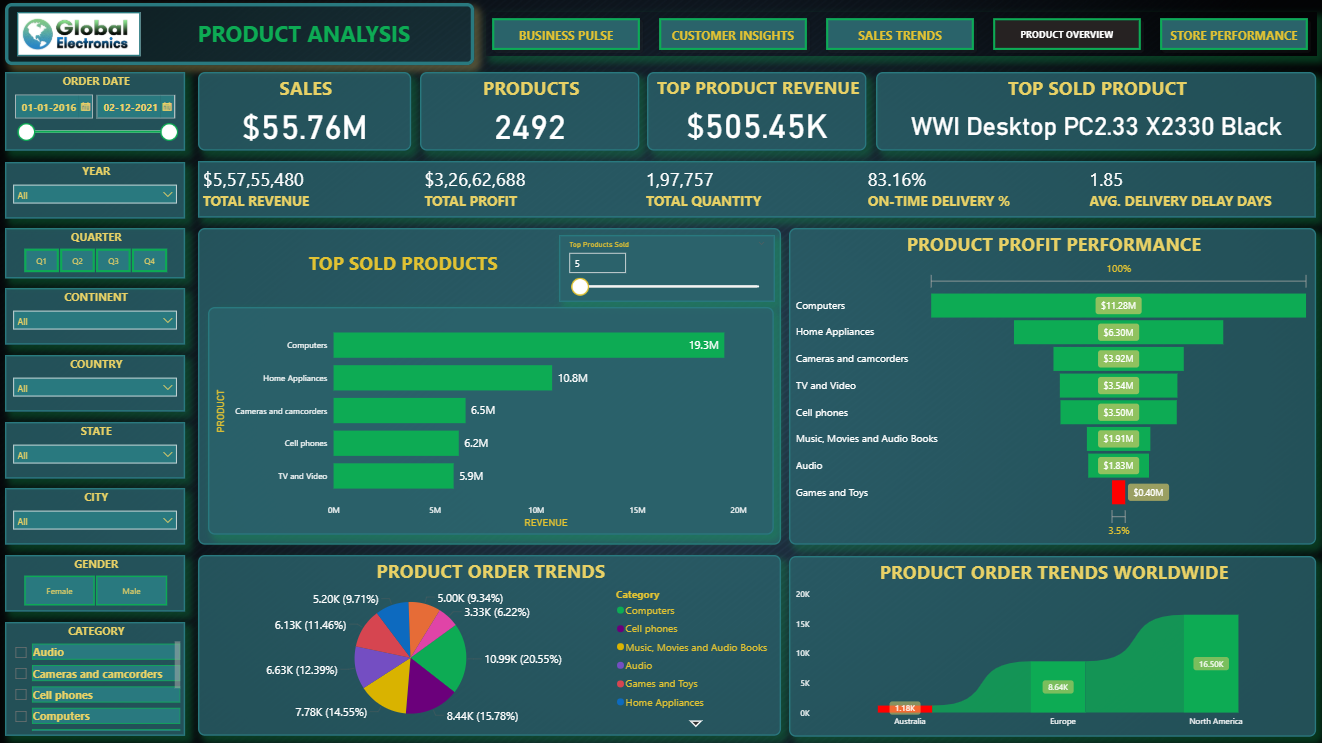

This screenshot's page, from the dashboard's own definition file:
{"tool":"powerbi","page":{"name":"PRODUCT OVERVIEW","canvas":[1920,1080],"ordinal":3},"visuals":[{"type":"shape","title":"title text box","box":[10.7,6.7,679.7,90],"z":0},{"type":"textbox","box":[205.5,22.8,475.5,59.1],"z":1000},{"type":"image","title":"Global electronics icon","box":[26.9,20.1,178.7,64.5],"z":2000},{"type":"slicer","title":"COUNTRY","fields":{"Values":["customers.Country"]},"box":[10.7,517,260.6,81.9],"z":3000},{"type":"slicer","title":"CONTINENT","fields":{"Values":["customers.Continent"]},"box":[10.7,420,260.6,81.9],"z":4000},{"type":"slicer","title":"STATE","fields":{"Values":["customers.State"]},"box":[10.7,614,260.6,81.9],"z":5000},{"type":"slicer","title":"CITY","fields":{"Values":["customers.City"]},"box":[10.7,710,260.6,81.9],"z":6000},{"type":"slicer","title":"GENDER","fields":{"Values":["customers.Gender"]},"box":[10.7,807,260.6,81.9],"z":7000},{"type":"slicer","title":"ORDER DATE","fields":{"Values":["Sales.Order Date"]},"box":[10.7,107.5,260.6,114.2],"z":8000},{"type":"slicer","title":"CATEGORY","fields":{"Values":["Products.Category"]},"box":[10.7,904,260.6,165.2],"z":9000},{"type":"slicer","title":"QUARTER","fields":{"Values":["Dim_Date.Quarter"]},"box":[10.7,333,260.6,72.5],"z":10000},{"type":"slicer","title":"YEAR","fields":{"Values":["Dim_Date.Year"]},"box":[10.7,237,260.6,81.9],"z":11000},{"type":"card","title":"SALES","fields":{"Values":["Financial Analysis.Total Revenue"]},"box":[290.1,107.5,309,114.2],"z":12000},{"type":"card","title":"PRODUCTS","fields":{"Values":["Product Analysis.Total Products Sold"]},"box":[611.2,107.5,318.4,114.2],"z":13000},{"type":"card","title":"TOP SOLD PRODUCT","fields":{"Values":["Product Analysis.Top Product by Revenue"]},"box":[1272.1,107.5,638.1,114.2],"z":14000},{"type":"multiRowCard","fields":{"Values":["Financial Analysis.Total Revenue","Financial Analysis.Total Profit","Product Analysis.Total Quantity","Product Analysis.On-Time Delivery %","Product Analysis.Avg Delivery Delay"]},"box":[290.1,236.4,1620,81.9],"z":15000},{"type":"funnel","title":"PRODUCT PROFIT PERFORMANCE","fields":{"Category":["Products.Category","Products.Subcategory","Products.Product Name"],"Y":["Financial Analysis.Total Profit"]},"box":[1145.8,333.1,764.3,459.4],"z":16000},{"type":"card","title":"TOP PRODUCT REVENUE","fields":{"Values":["Product Analysis.Top Product Revenue"]},"box":[940.3,107.5,318.4,114.2],"z":17000},{"type":"pieChart","title":"PRODUCT ORDER TRENDS","fields":{"Category":["Products.Category","Products.Subcategory","Products.Product Name"],"Y":["Financial Analysis.Total Orders"]},"box":[290.1,807.3,844.9,261.9],"z":18000},{"type":"shape","box":[290.1,333.1,844.9,459.4],"z":19000},{"type":"slicer","fields":{"Values":["Top Products Sold.Top Products Sold"]},"box":[812.7,343.9,313,96.7],"z":20000},{"type":"textbox","box":[389.6,361.3,394.9,59.1],"z":21000},{"type":"barChart","title":"REVENUE DISTRIBUTION ACROSS AGE GROUPS","fields":{"Category":["Products.Category","Products.Subcategory","Products.Product Name"],"Y":["Product Analysis.Top N Revenue"]},"box":[304.3,447.8,819.6,330.4],"z":22000},{"type":"ribbonChart","title":"PRODUCT ORDER TRENDS WORLDWIDE","fields":{"Category":["customers.Continent","customers.Country","customers.State","customers.City"],"Y":["Financial Analysis.Total Orders"]},"box":[1145.8,808.7,764.3,261.9],"z":23000},{"type":"pageNavigator","box":[706.6,20.1,1203.6,64.5],"z":23001}]}

Visuals, with their boxes in screenshot pixels (x1, y1, x2, y2), scaled from the page's 1920x1080 canvas onto the 1322x743 screenshot:
"title text box" shape: detection(7, 5, 475, 67)
textbox: detection(141, 16, 469, 56)
"Global electronics icon" image: detection(19, 14, 142, 58)
"COUNTRY" slicer: detection(7, 356, 187, 412)
"CONTINENT" slicer: detection(7, 289, 187, 345)
"STATE" slicer: detection(7, 422, 187, 479)
"CITY" slicer: detection(7, 488, 187, 545)
"GENDER" slicer: detection(7, 555, 187, 612)
"ORDER DATE" slicer: detection(7, 74, 187, 153)
"CATEGORY" slicer: detection(7, 622, 187, 736)
"QUARTER" slicer: detection(7, 229, 187, 279)
"YEAR" slicer: detection(7, 163, 187, 219)
"SALES" card: detection(200, 74, 413, 153)
"PRODUCTS" card: detection(421, 74, 640, 153)
"TOP SOLD PRODUCT" card: detection(876, 74, 1315, 153)
multiRowCard - Financial Analysis.Total Revenue x Financial Analysis.Total Profit: detection(200, 163, 1315, 219)
"PRODUCT PROFIT PERFORMANCE" funnel: detection(789, 229, 1315, 545)
"TOP PRODUCT REVENUE" card: detection(647, 74, 867, 153)
"PRODUCT ORDER TRENDS" pieChart: detection(200, 555, 781, 736)
shape: detection(200, 229, 781, 545)
slicer - Top Products Sold.Top Products Sold: detection(560, 237, 775, 303)
textbox: detection(268, 249, 540, 289)
"REVENUE DISTRIBUTION ACROSS AGE GROUPS" barChart: detection(210, 308, 774, 535)
"PRODUCT ORDER TRENDS WORLDWIDE" ribbonChart: detection(789, 556, 1315, 737)
pageNavigator: detection(487, 14, 1315, 58)
